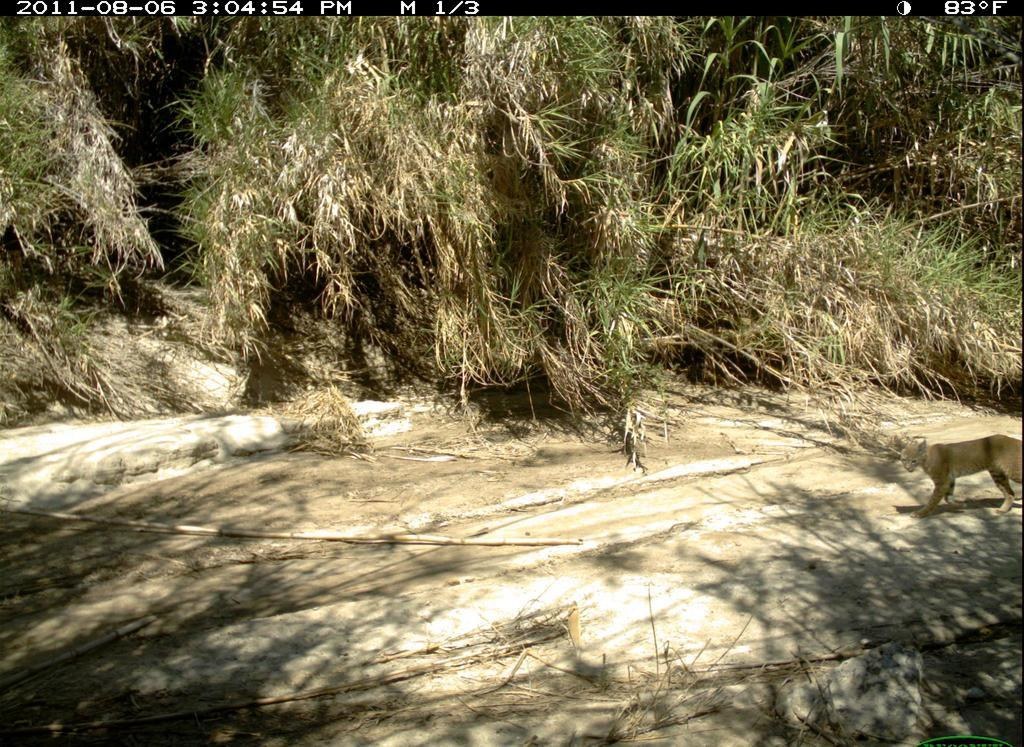bobcat: (897, 431, 1022, 519)
